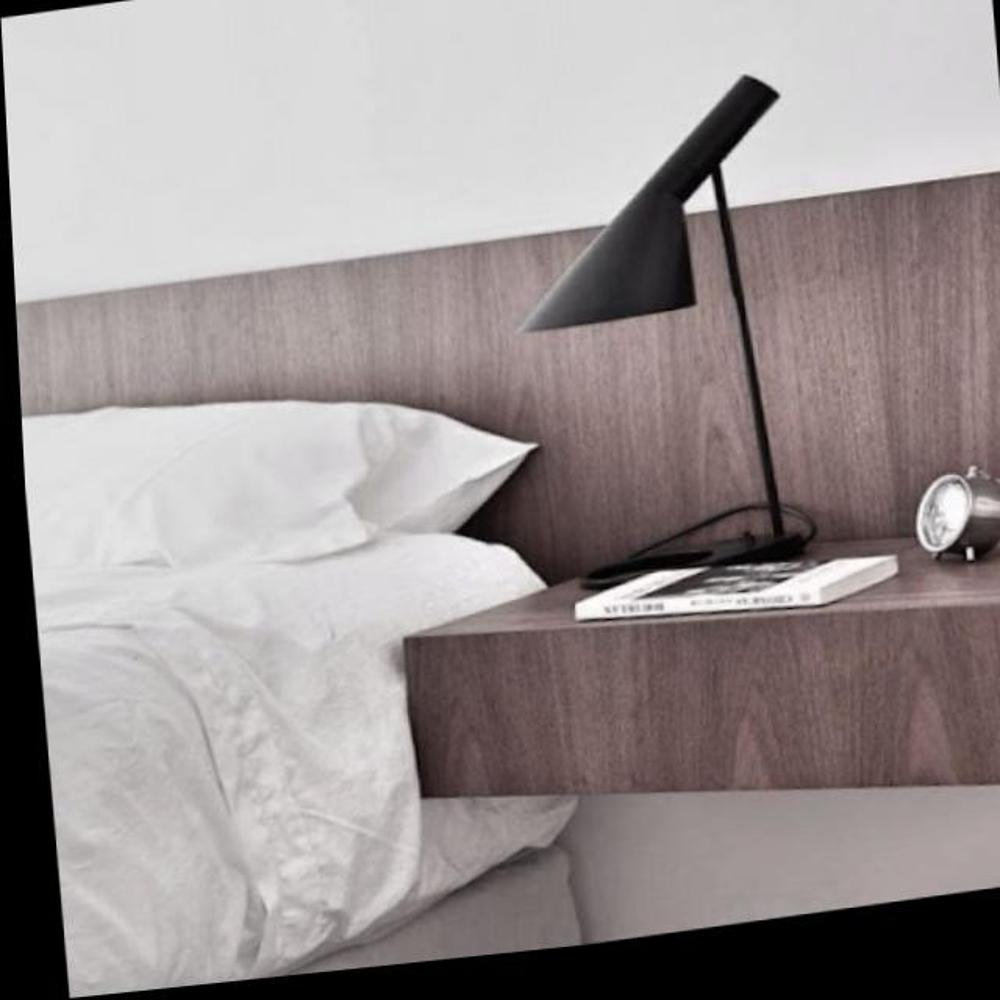shelf: (489, 53, 865, 607)
